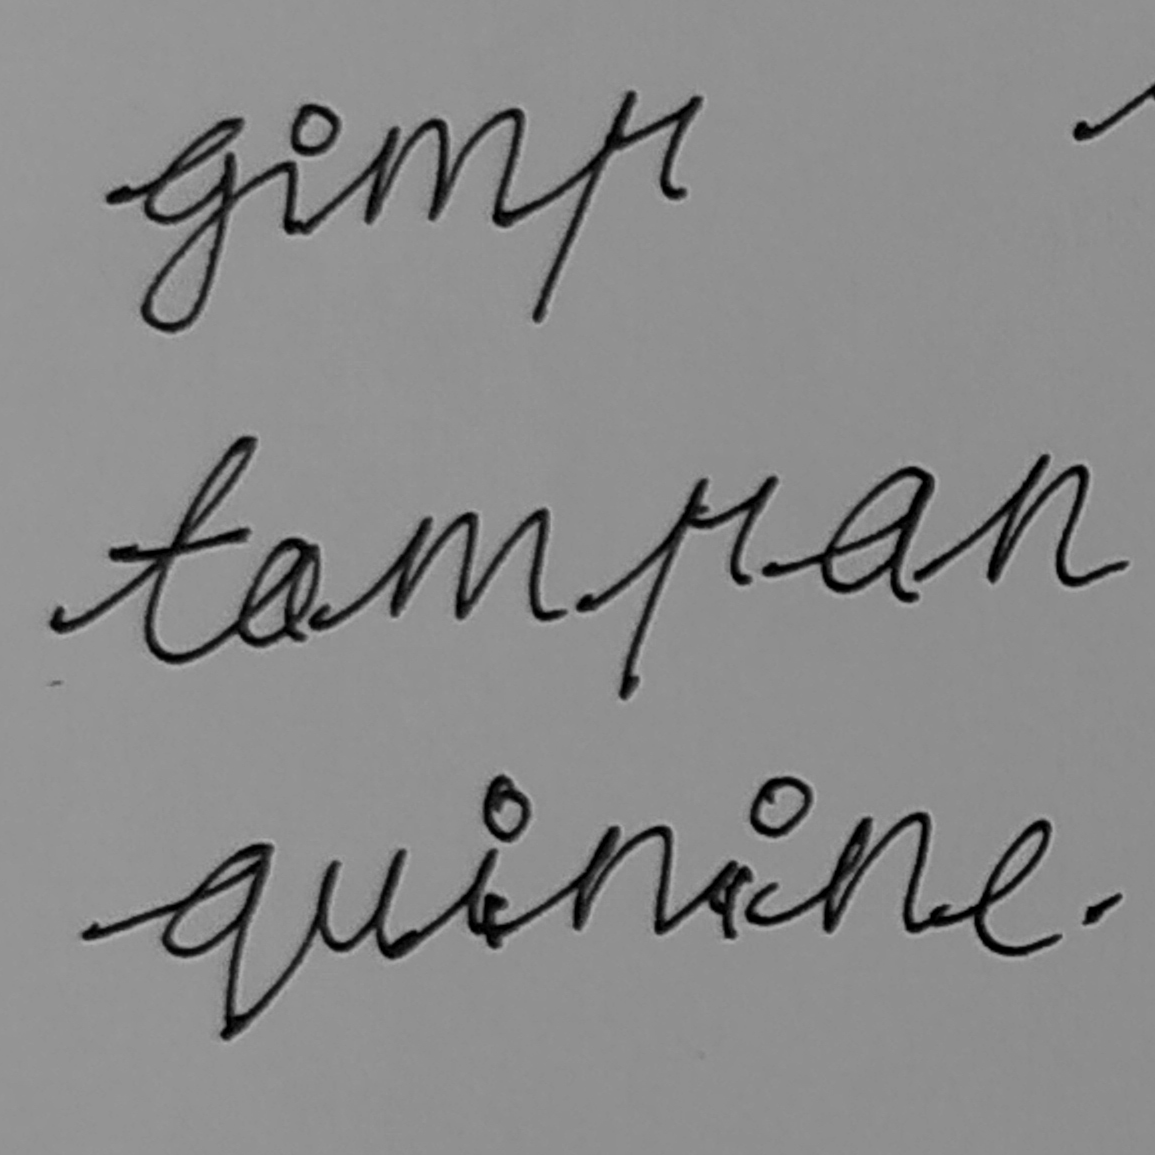a: (815, 464, 945, 607), (232, 534, 336, 656)
m: (385, 502, 565, 629)
n: (983, 450, 1122, 592)
p: (610, 466, 782, 701)
t: (105, 430, 258, 670)
